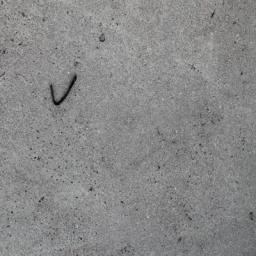FOD: (49, 74, 80, 111)
